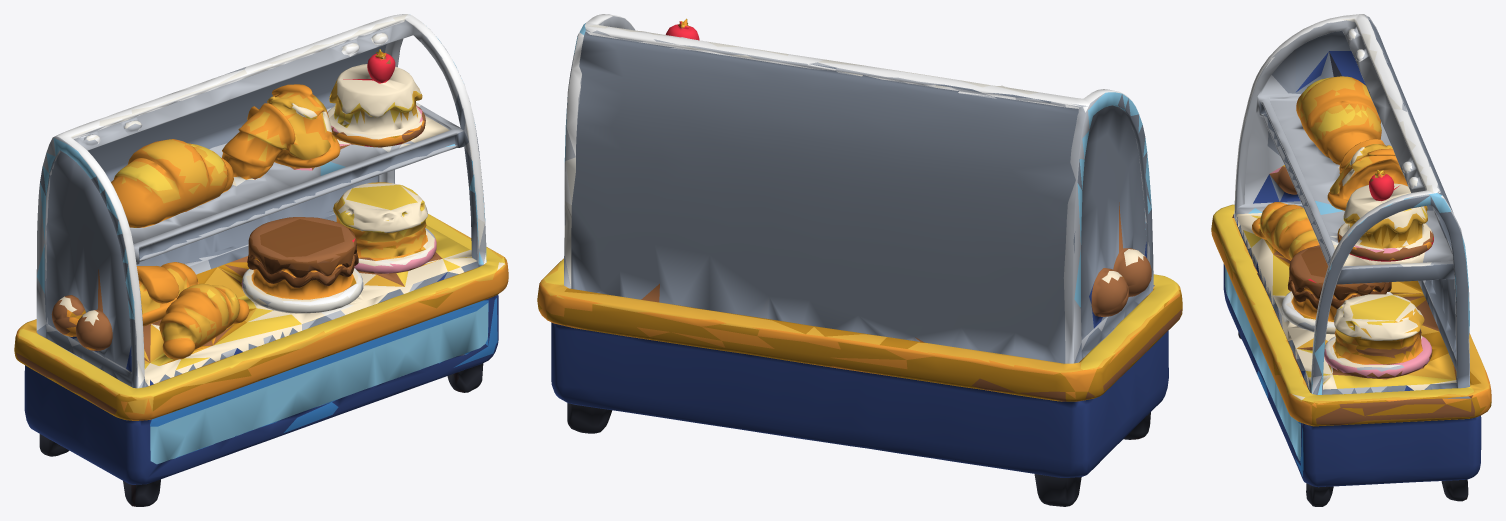
Rendered from SM_bakery_case.fbx.
3 views of the same model, side by side, from view 1: azimuth 30°, elevation 25°; view 2: azimuth 150°, elevation 25°; view 3: azimuth 270°, elevation 25° (orthographic). The views are drawn at different scales.
Visible parts, largest first — view 1: SM_bakery_case; view 2: SM_bakery_case; view 3: SM_bakery_case.
Part boxes in pixels (x1,y1,x2,y2): SM_bakery_case: (14,14,508,506); SM_bakery_case: (537,14,1182,506); SM_bakery_case: (1211,14,1491,506).
Size of the model in its own units: 171 by 120 by 97.4.
1 material, 1 textured.
